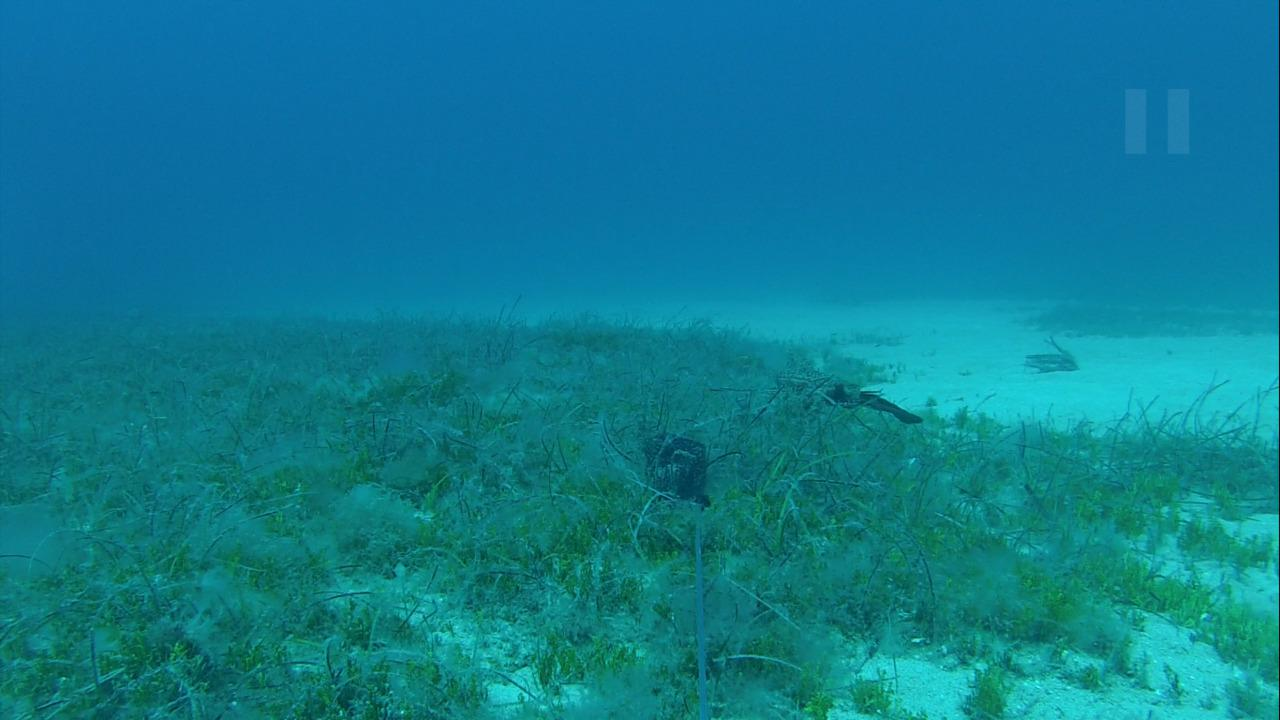dactylopterus: (709, 361, 921, 429)
